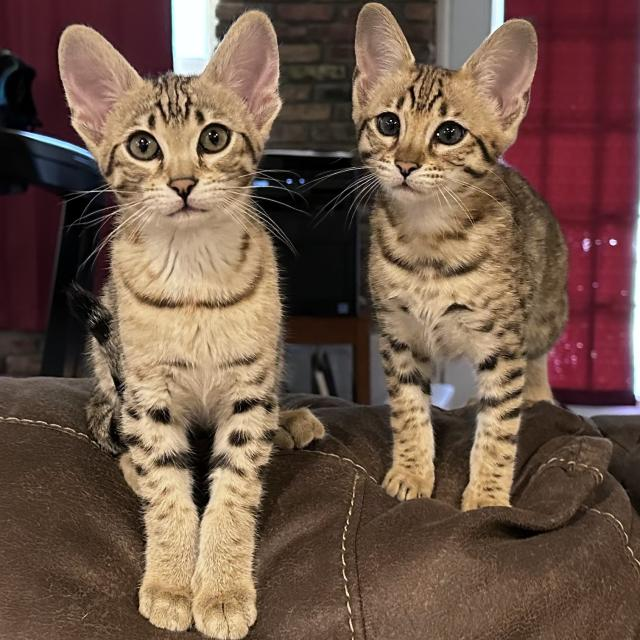Savannah: (56, 8, 327, 640), (349, 0, 575, 517)
